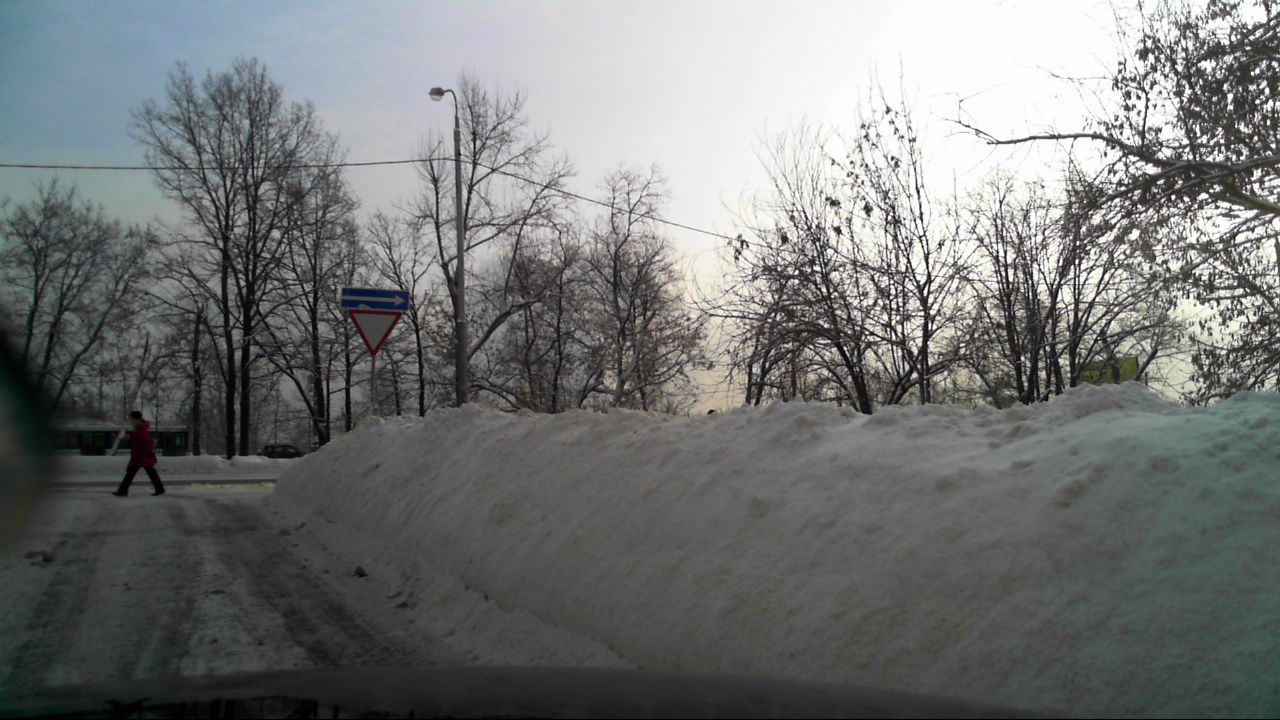One-Way Traffic: (340, 288, 410, 310)
